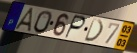6: (51, 13, 70, 38)
7: (105, 22, 121, 46)
A: (13, 7, 35, 34)
D: (83, 18, 105, 43)
O: (33, 10, 53, 35)
P: (63, 14, 87, 40)
